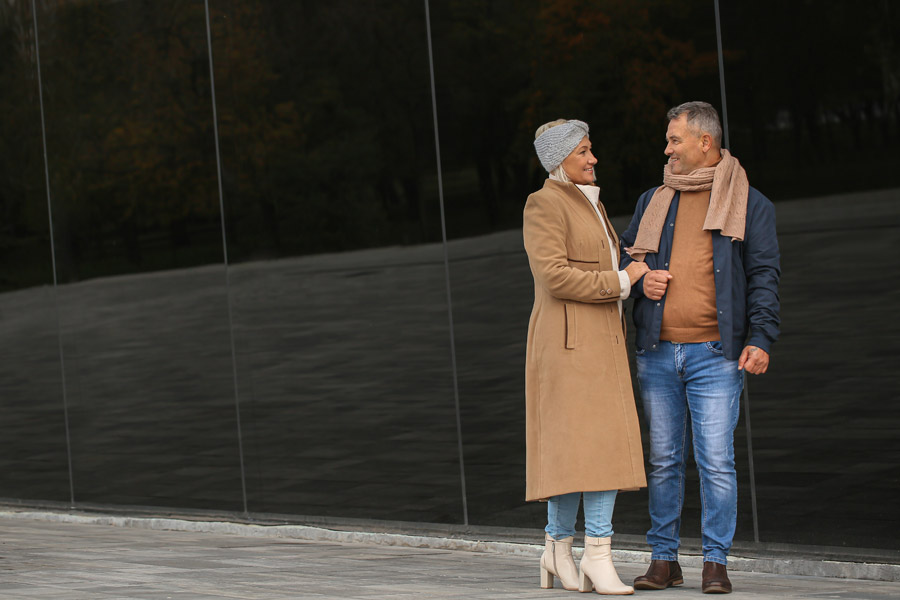female: (518, 116, 638, 597)
male: (627, 97, 786, 596)
